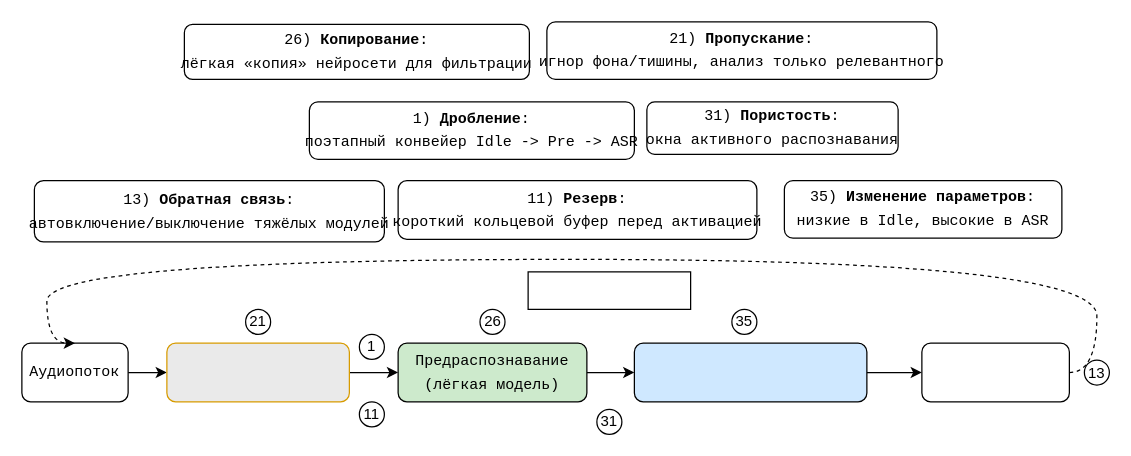
Image size: 1131x456. Some labels were removed from this diagram. The centre of each missing label's shape, as x and y in pixels:
"Idle / фон-мониторинг" goes at [257,372].
"Pipline" goes at [609,290].
"Интерпретация и действия" goes at [995,372].
"Полное распознавание (ASR)" goes at [750,372].
